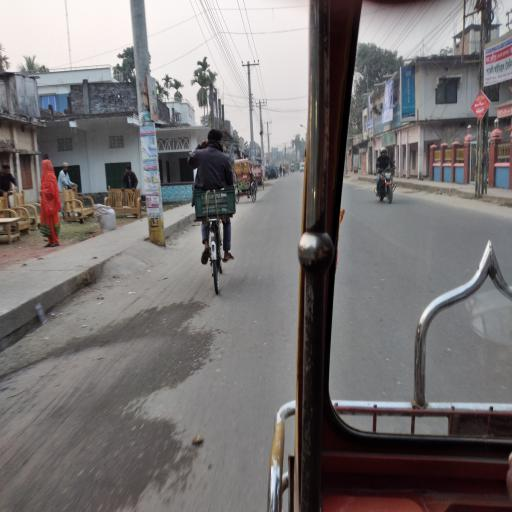auto rickshaw: (290, 164, 297, 176)
bicycle: (188, 129, 240, 300)
motorbike: (373, 144, 400, 207)
pickup: (300, 162, 306, 174)
rickshaw: (234, 159, 259, 206), (253, 164, 265, 191), (284, 164, 290, 178)
suv: (268, 165, 280, 180)
